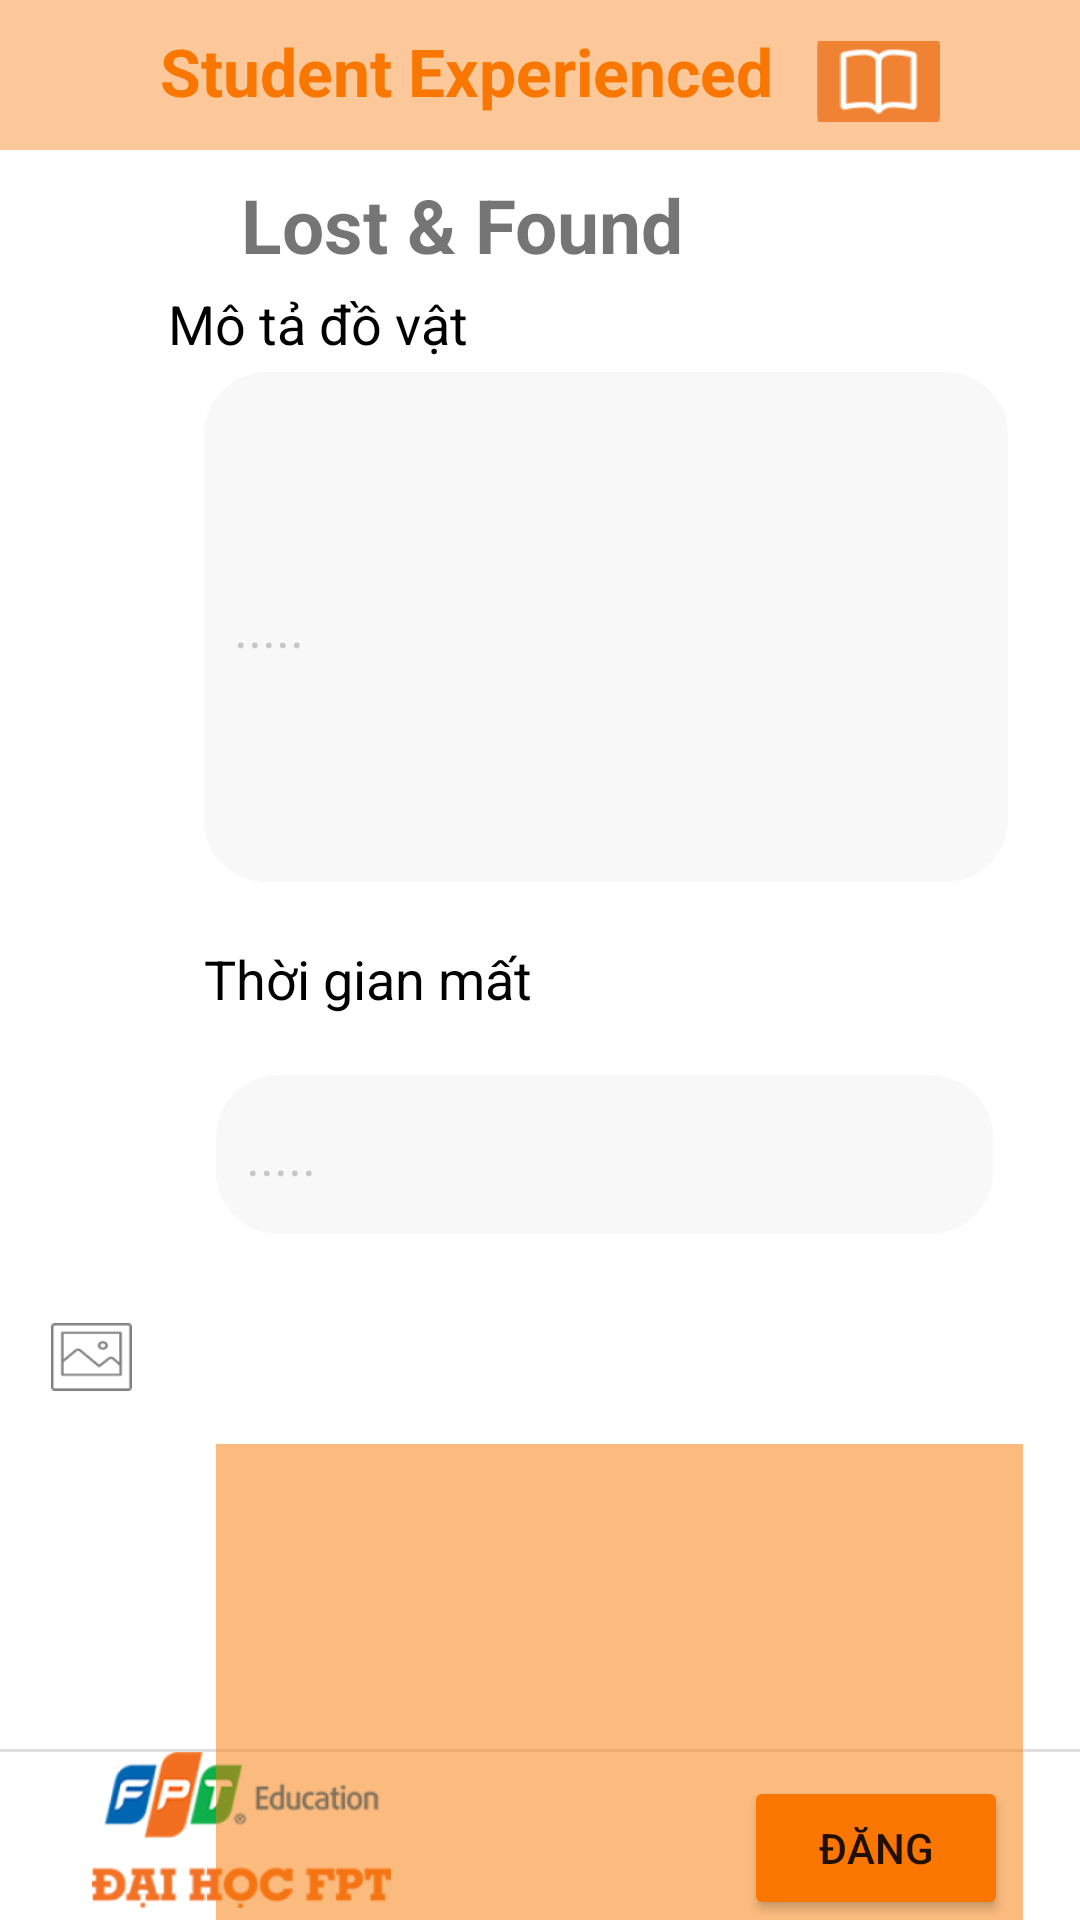

Where icons sit on this 1080w x 1920h app screen, as bbox(x1, y1, x2, y2):
book: bbox(817, 41, 940, 122)
